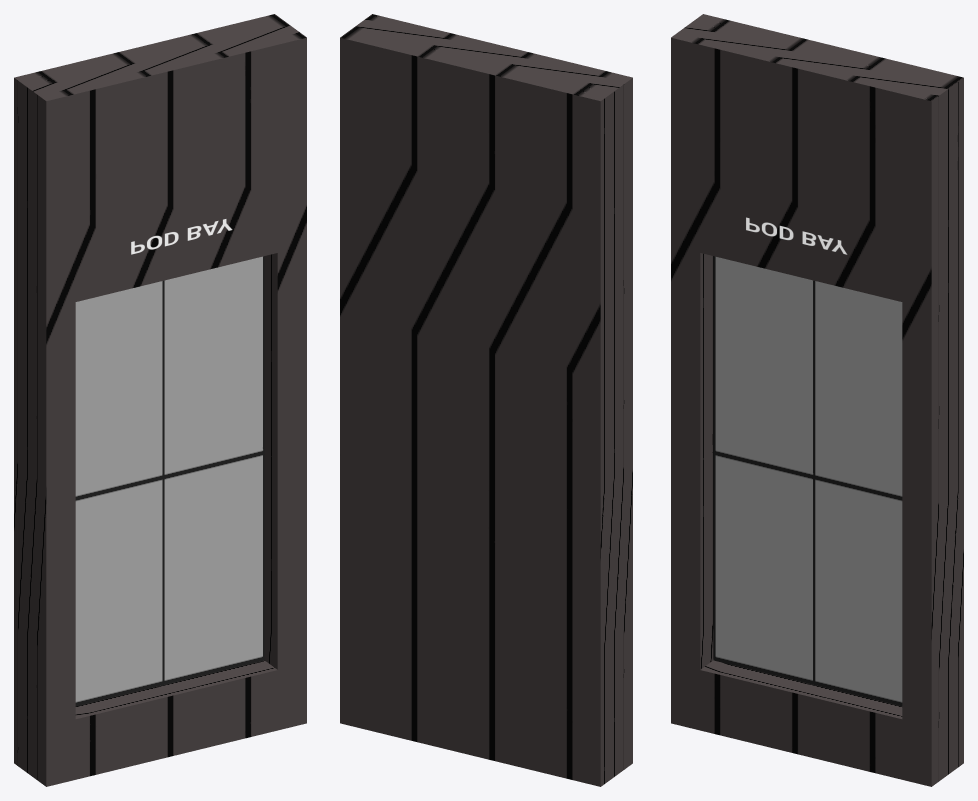
Rendered from exit_door.glb.
3 views of the same model, side by side, from view 1: azimuth 30°, elevation 25°; view 2: azimuth 150°, elevation 25°; view 3: azimuth 330°, elevation 25° (orthographic).
Parts seen in each view (by area): view 1: Cube, Plane; view 2: Cube; view 3: Cube, Plane.
Boxes of the visible parts, <box> form: Cube: <box>14,14,306,786</box>; Plane: <box>131,219,232,254</box>; Cube: <box>340,14,632,786</box>; Cube: <box>671,14,963,786</box>; Plane: <box>746,217,847,254</box>.
Bounding box in the file's own units: 2.74 × 6.9 × 0.6771.
Materials: 3 (3 with a texture image).
